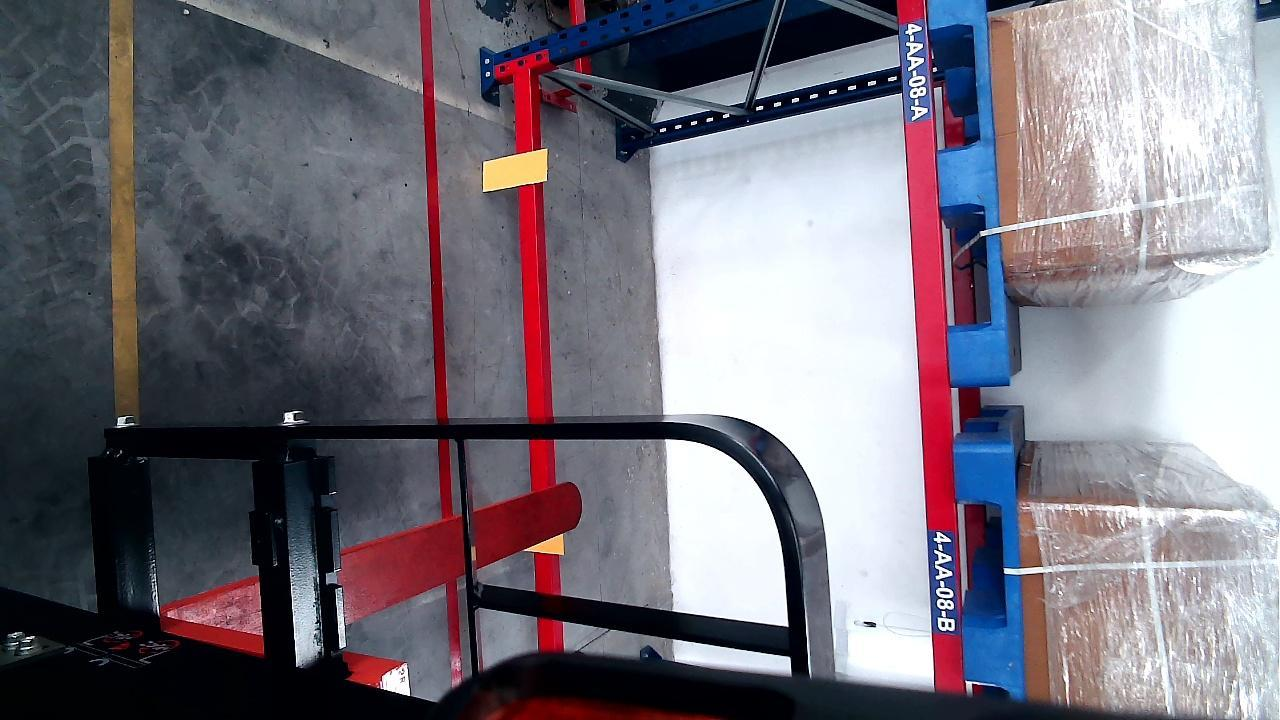red_line: (423, 2, 459, 689)
yellow_line: (110, 0, 139, 418)
